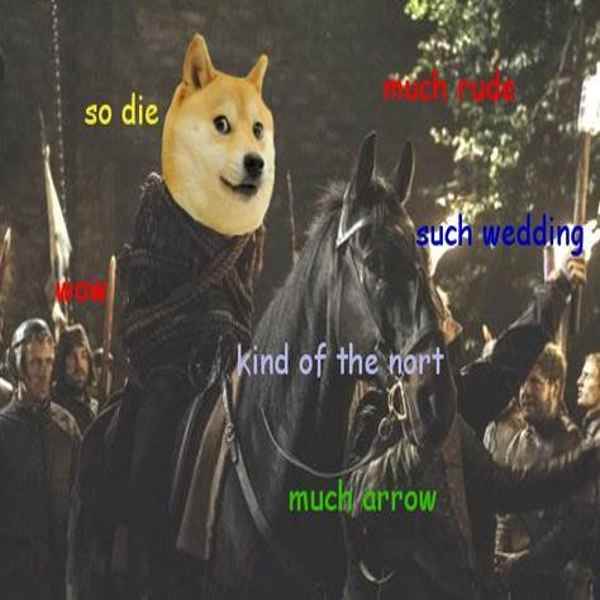doge: (153, 26, 292, 246)
